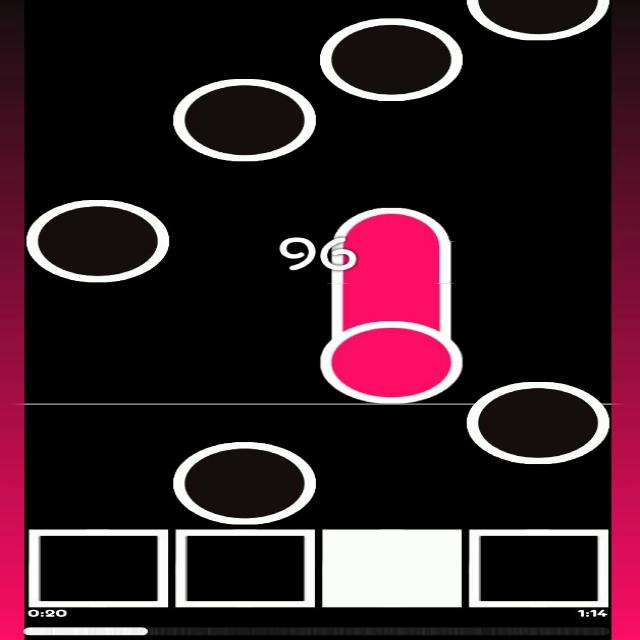end_hold: (329, 194, 456, 250)
note: (168, 436, 319, 524), (173, 76, 321, 162), (28, 194, 171, 283), (469, 379, 606, 462), (324, 18, 464, 99), (464, 0, 612, 43)
start_hold: (318, 302, 469, 409)
